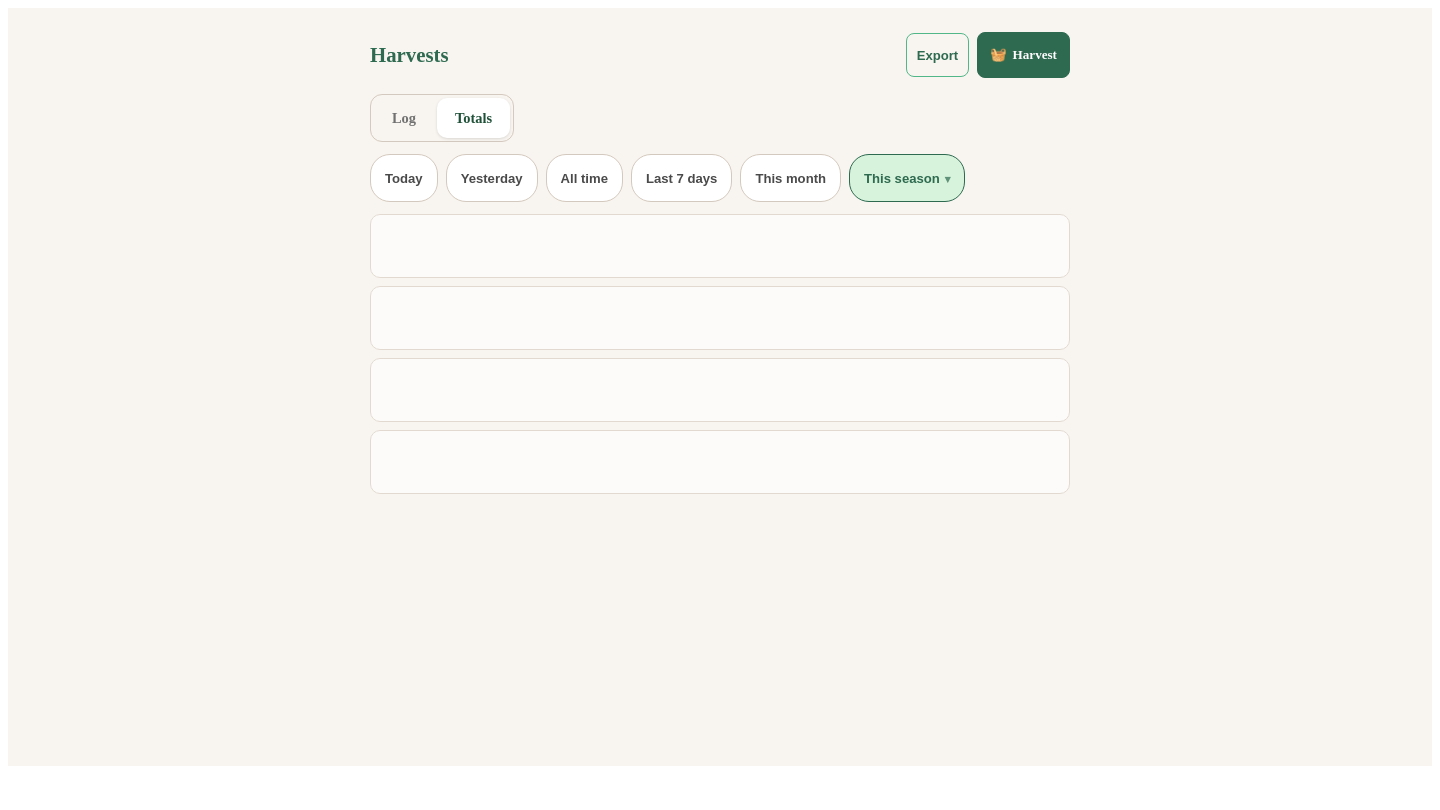
Test case: Harvests — weight chip › suppresses the no-weight chip on a row that has no amount either — no double negative
Click the radio button labelled "Log".
click(404, 118)  # box [374, 98, 434, 138]
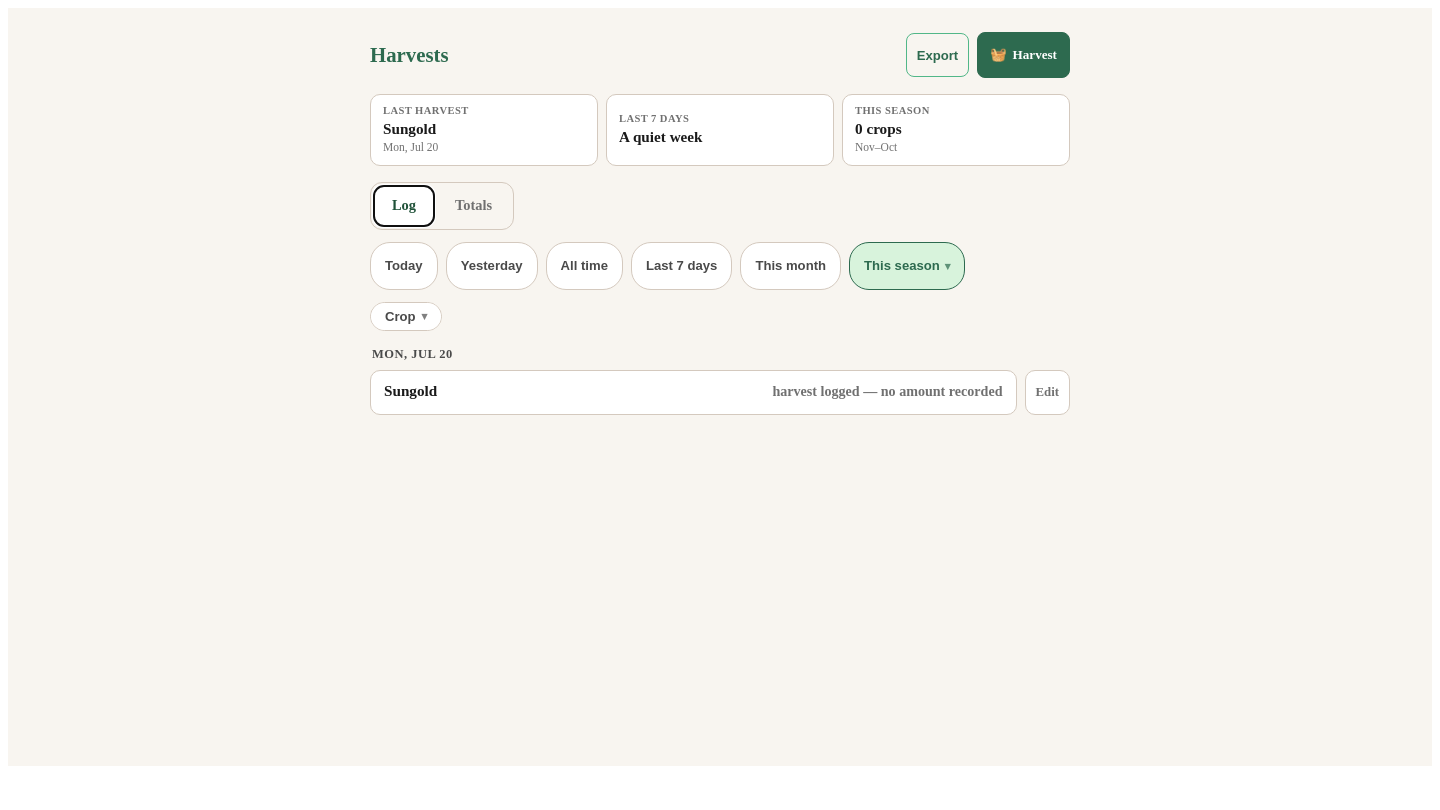
Check: the text "harvest logged — no amount recorded" is shown, box [772, 383, 1003, 400]
